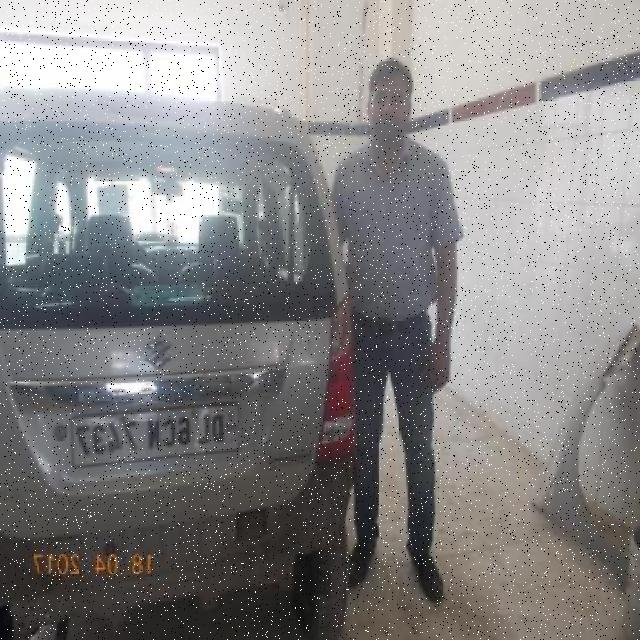damage: (2, 461, 356, 637)
